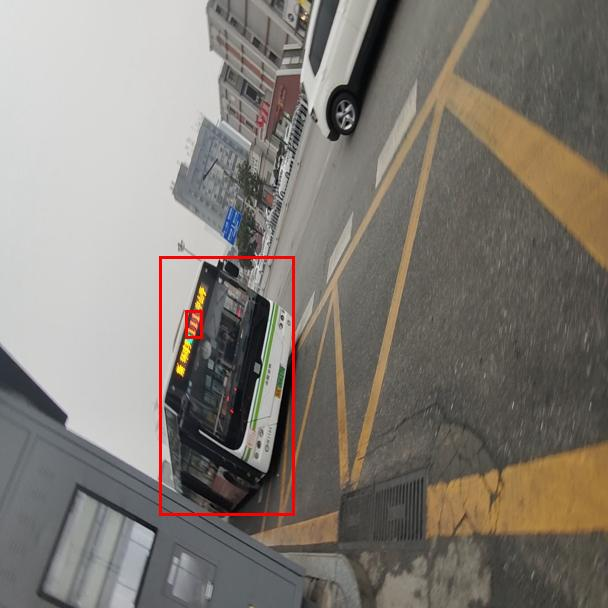bus: (159, 256, 294, 515)
screen: (185, 310, 202, 338)
